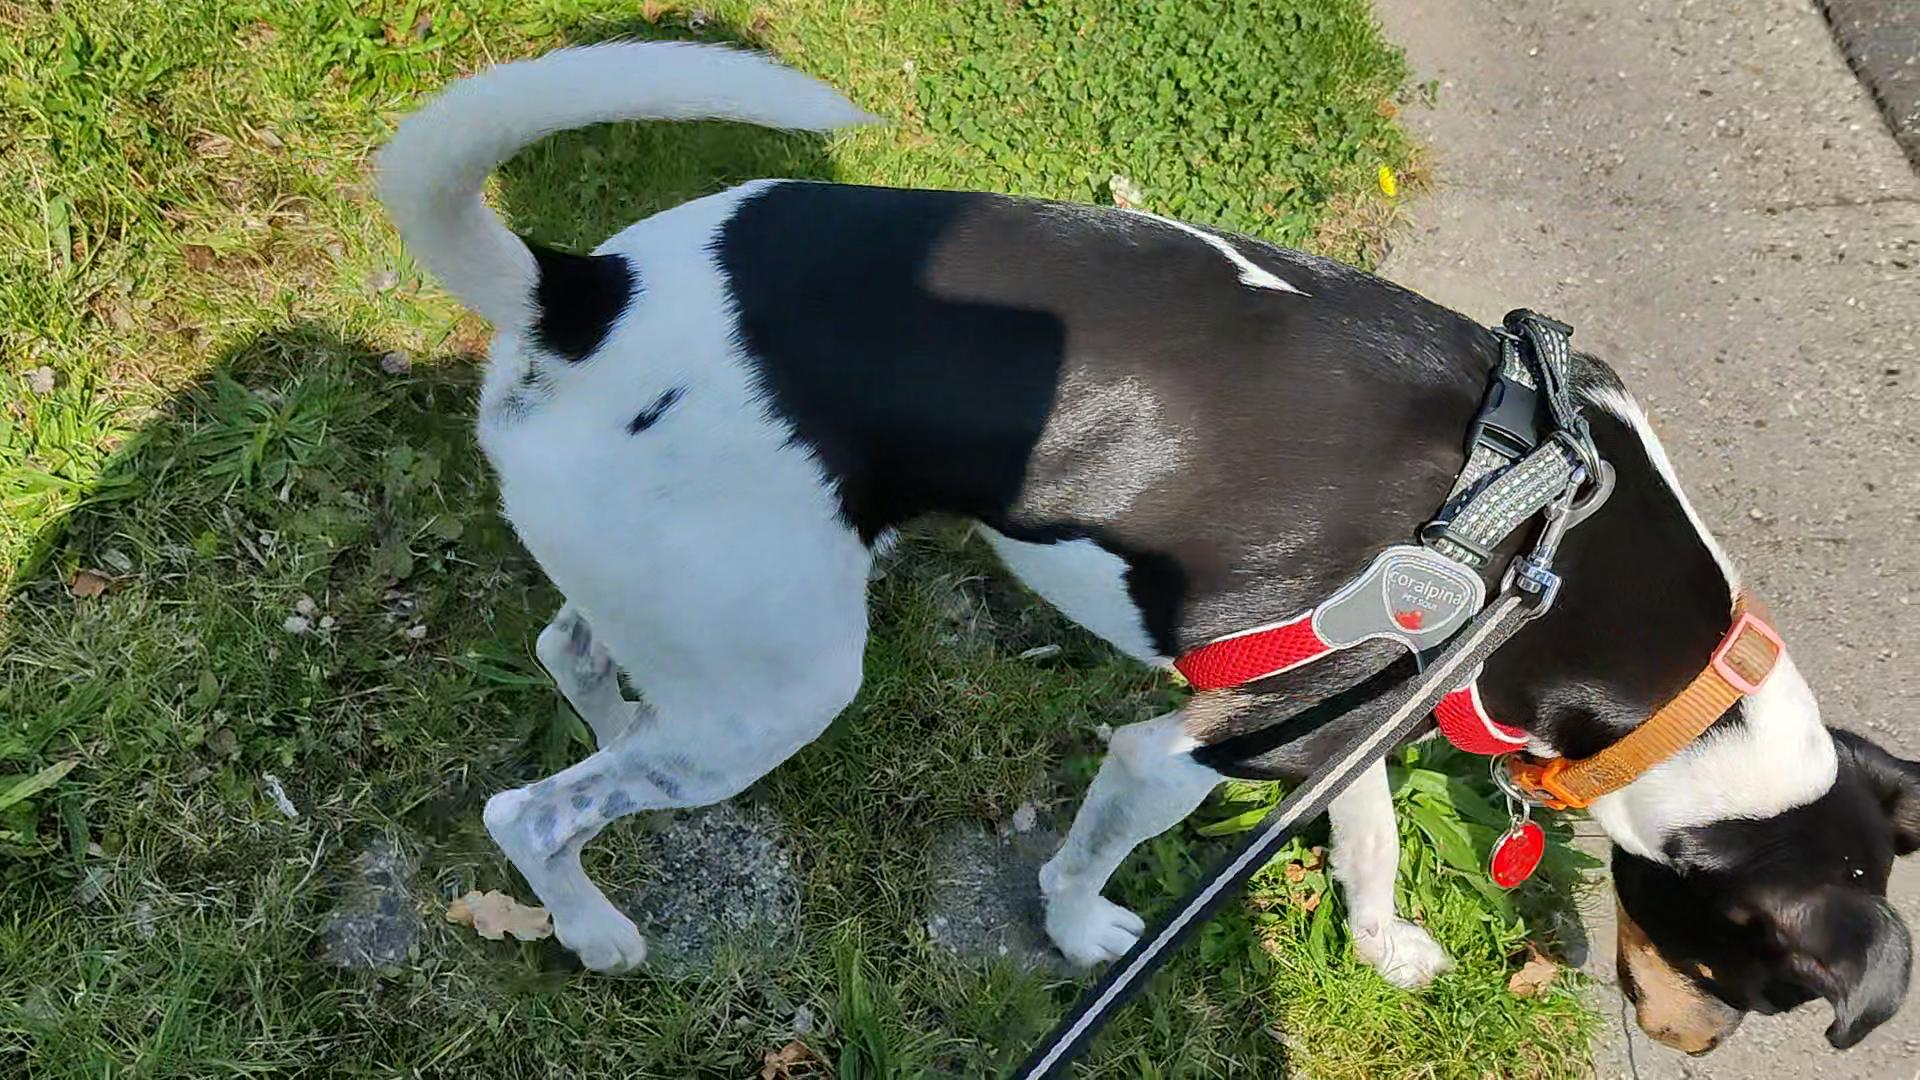Dog: (367, 34, 1919, 1064)
